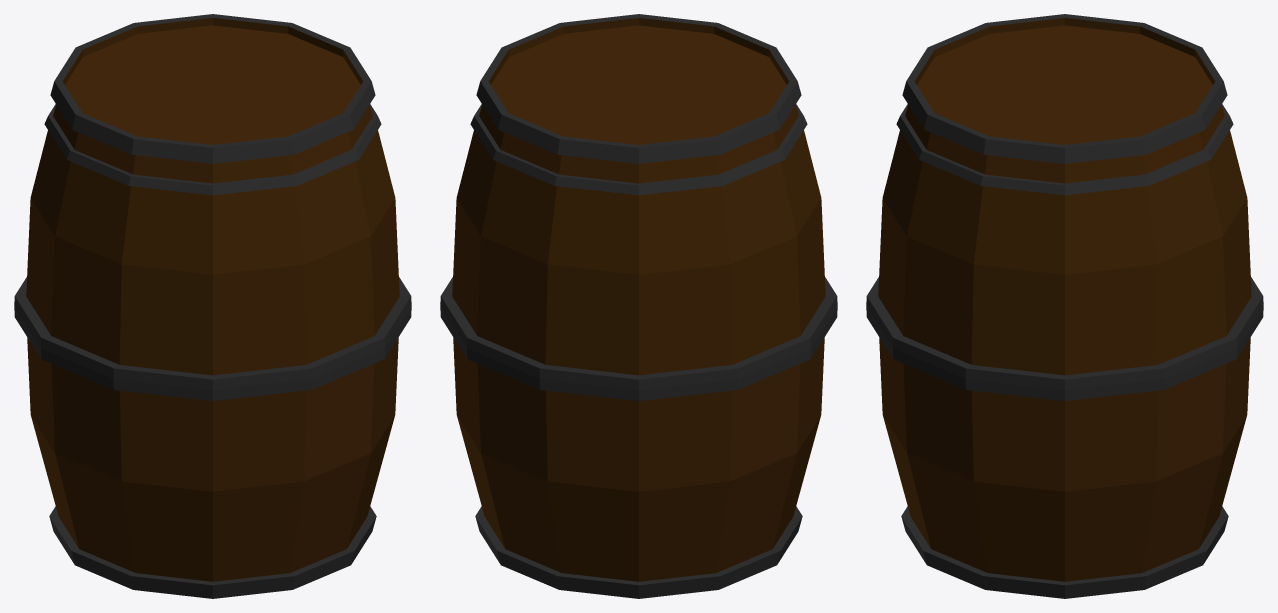
Rendered from woodenBarrel.fbx.
3 renders of one model, left to right at view 1: azimuth 30°, elevation 25°; view 2: azimuth 150°, elevation 25°; view 3: azimuth 270°, elevation 25°, orthographic.
Parts seen in each view (by area): view 1: barrel; view 2: barrel; view 3: barrel.
Boxes of the visible parts, x1=… form: barrel: x1=14, y1=14, x2=411, y2=598; barrel: x1=440, y1=14, x2=837, y2=598; barrel: x1=866, y1=14, x2=1263, y2=598.
Size of the model in its own units: 70.93 by 88.73 by 70.93.
